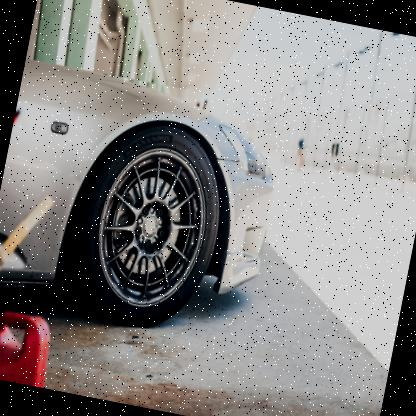Car: (0, 58, 291, 350)
